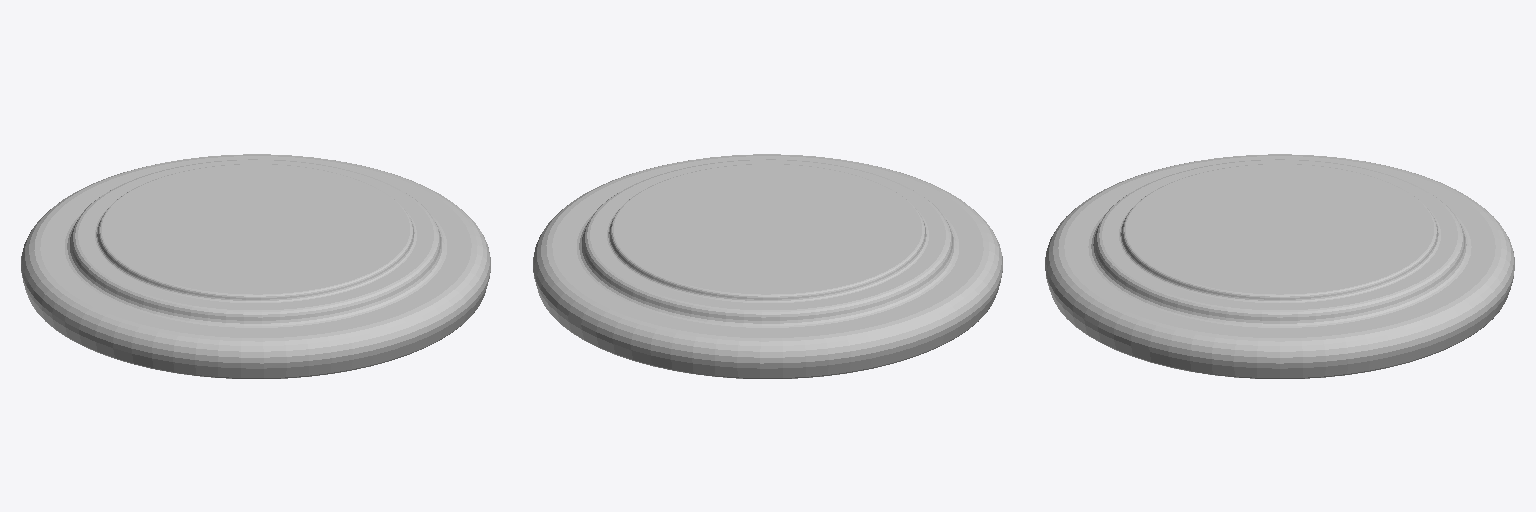
Rendered from frizbee2.obj.
3 renders of one model, left to right at view 1: azimuth 30°, elevation 25°; view 2: azimuth 150°, elevation 25°; view 3: azimuth 270°, elevation 25°, orthographic.
Visible parts, largest first — view 1: frisbee; view 2: frisbee; view 3: frisbee.
Part boxes in pixels (bbox=[...]): frisbee: bbox=[21, 154, 490, 378]; frisbee: bbox=[533, 154, 1002, 378]; frisbee: bbox=[1045, 154, 1514, 378].
Size of the model in its own units: 0.2401 by 0.03 by 0.2401.